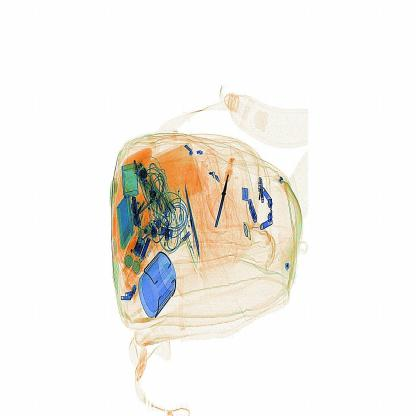gun: (206, 151, 240, 234)
